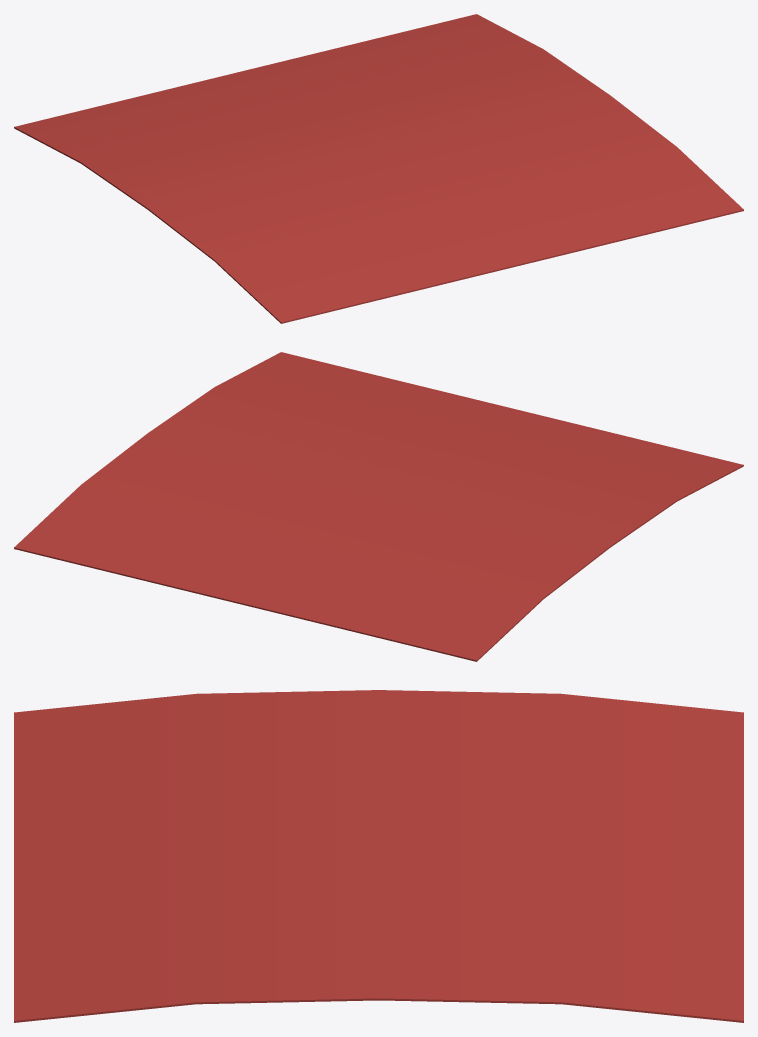
The model's file is steel_tip_lod2.glb.
3 views of the same model, one above another, from view 1: azimuth 30°, elevation 25°; view 2: azimuth 150°, elevation 25°; view 3: azimuth 270°, elevation 25° (orthographic). The views are drawn at different scales.
Parts seen in each view (by area): view 1: steel_tip_lod2; view 2: steel_tip_lod2; view 3: steel_tip_lod2.
Boxes of the visible parts, left/top/right/bottom form: steel_tip_lod2: left=14, top=14, right=743, bottom=323; steel_tip_lod2: left=14, top=352, right=743, bottom=661; steel_tip_lod2: left=14, top=690, right=743, bottom=1022.
Bounding box in the file's own units: 1 × 0.037 × 1.
